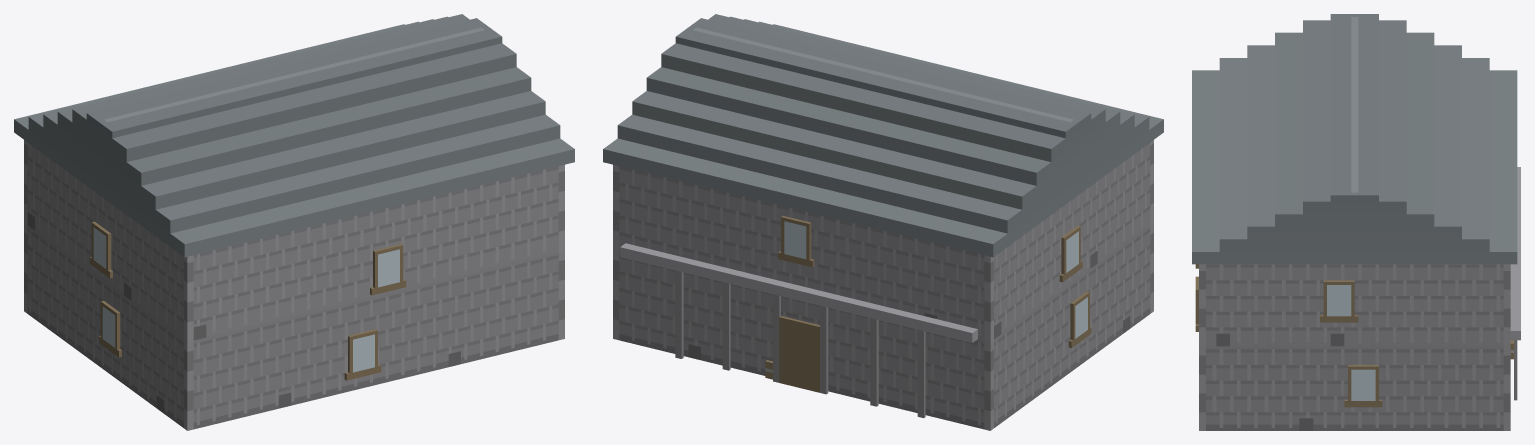
Rendered from joyeria_04.glb.
3 renders of one model, left to right at view 1: azimuth 30°, elevation 25°; view 2: azimuth 150°, elevation 25°; view 3: azimuth 270°, elevation 25°, orthographic. The views are drawn at different scales.
Parts seen in each view (by area): view 1: joyeria_04; view 2: joyeria_04; view 3: joyeria_04.
Part boxes in pixels (x1,y1,x2,y2): joyeria_04: [14, 14, 574, 430]; joyeria_04: [603, 14, 1163, 430]; joyeria_04: [1192, 14, 1520, 430].
Size of the model in its own units: 12.4 by 7.6 by 9.5.
